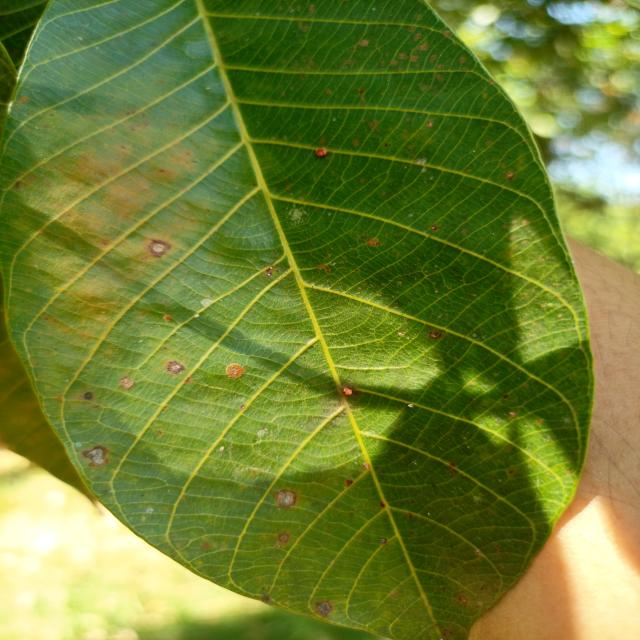Colletotrichum: (83, 446, 110, 468), (275, 488, 297, 509), (149, 240, 170, 258), (315, 600, 332, 615), (167, 361, 184, 374)
